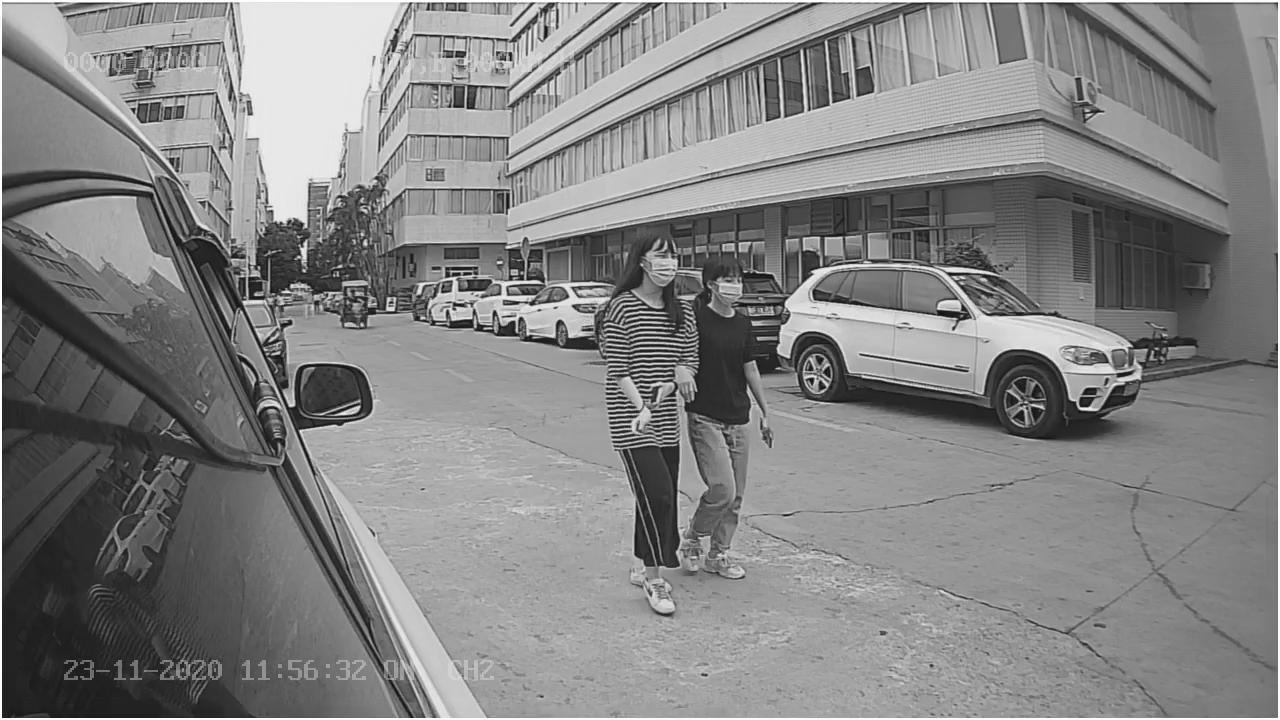person: (594, 221, 692, 623), (676, 257, 760, 584)
